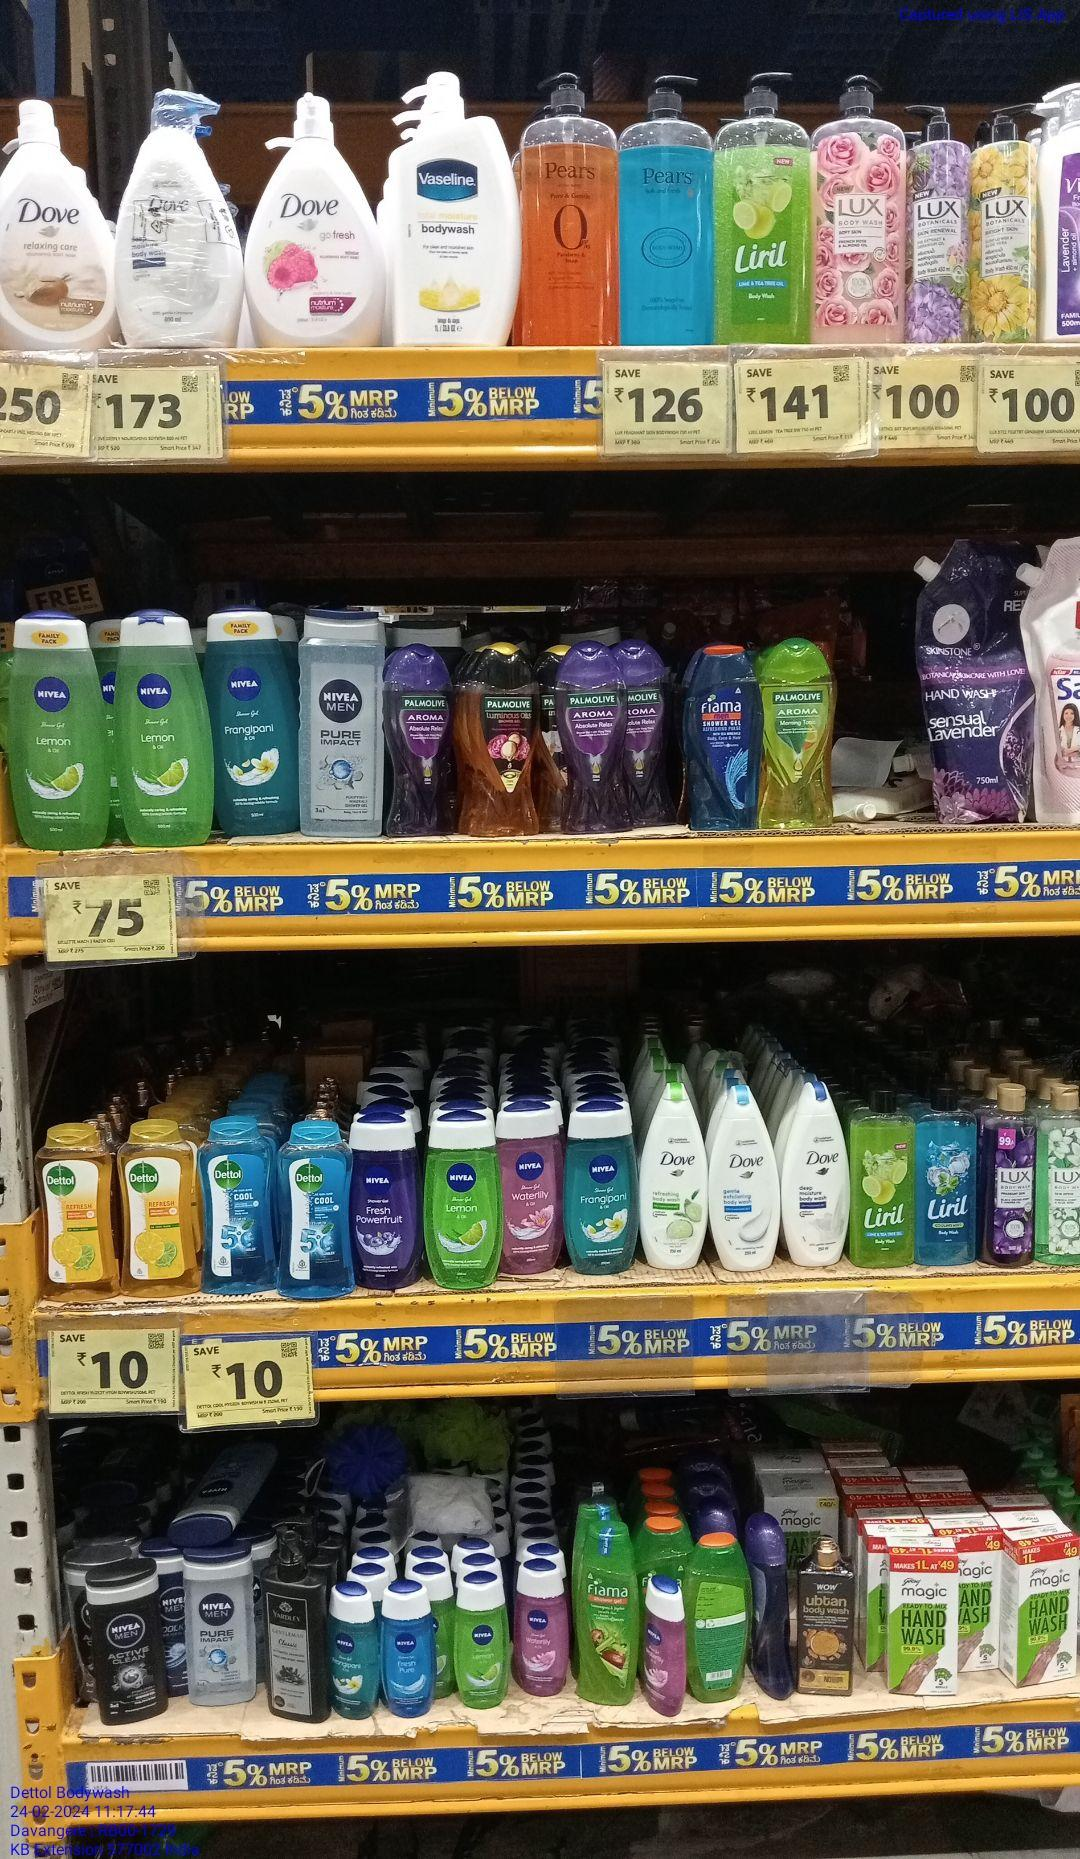Dettol_Bodywash_Cool: (280, 1124, 354, 1304), (202, 1122, 273, 1296)
Dettol_Bodywash_Refresh: (30, 1124, 120, 1306), (120, 1122, 198, 1302)
Dove_Deep_Moisture_Body_Wash_250ML: (786, 1088, 850, 1266)
Dove_Gentle_Exfoliating_Body_Wash_250ML: (714, 1086, 782, 1270)
Dove_Refreshing_Body_Wash_250ML: (640, 1082, 708, 1271)
Fiama_Shower_Gel_Lemongrass_and_Jojoba_250ML: (577, 1522, 638, 1712)
Liril_Cooling_Mint_Body_Wash_250ML: (921, 1086, 980, 1266)
Liril_Lime_and_Tea_Tree_Oil_Body_Wash_250ML: (852, 1090, 915, 1270)
Lux_Black_Orchid_Scent_and_Juniper_Oil_Body_Wash_245ML: (986, 1090, 1034, 1271)
Lux_Body_Wash_Skin_Detox_Freesia_Scent_and_Alove_Vera_245ML: (1035, 1091, 1079, 1268)
Nivea_Shower_Gel_Frangipani_and_Oil_250ML: (216, 615, 302, 840), (564, 1112, 636, 1268), (325, 1586, 378, 1721)
Nivea_Shower_Gel_Fresh_Powerfruit_250ML: (354, 1122, 422, 1289)
Nivea_Shower_Gel_Lemon_and_Oil_250ML: (114, 616, 213, 843), (10, 620, 111, 843), (428, 1120, 501, 1296), (455, 1577, 507, 1707)
Nivea_Shower_Gel_Waterlily_and_Oil_250ML: (501, 1106, 562, 1277), (512, 1567, 570, 1696), (643, 1580, 685, 1716)
Palmolive_Aroma_Morning_Tonic_Shower_Gel_250ML: (762, 642, 834, 832)
Palmolive_Aroma_Relax_250ML: (554, 651, 634, 836), (384, 645, 453, 836)
Palmolive_Luminous_Oils_Invigorating_Macadamia_Oil_With_Peony_250ML: (460, 651, 543, 836)
